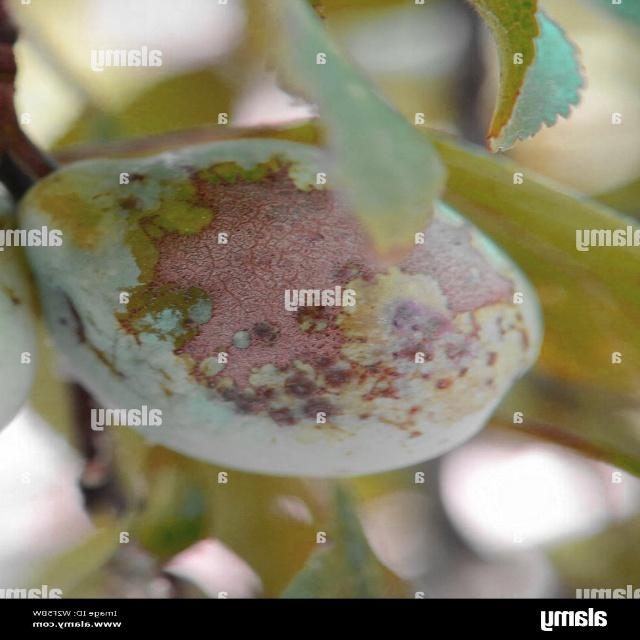leaf_spot: (35, 157, 517, 447)
